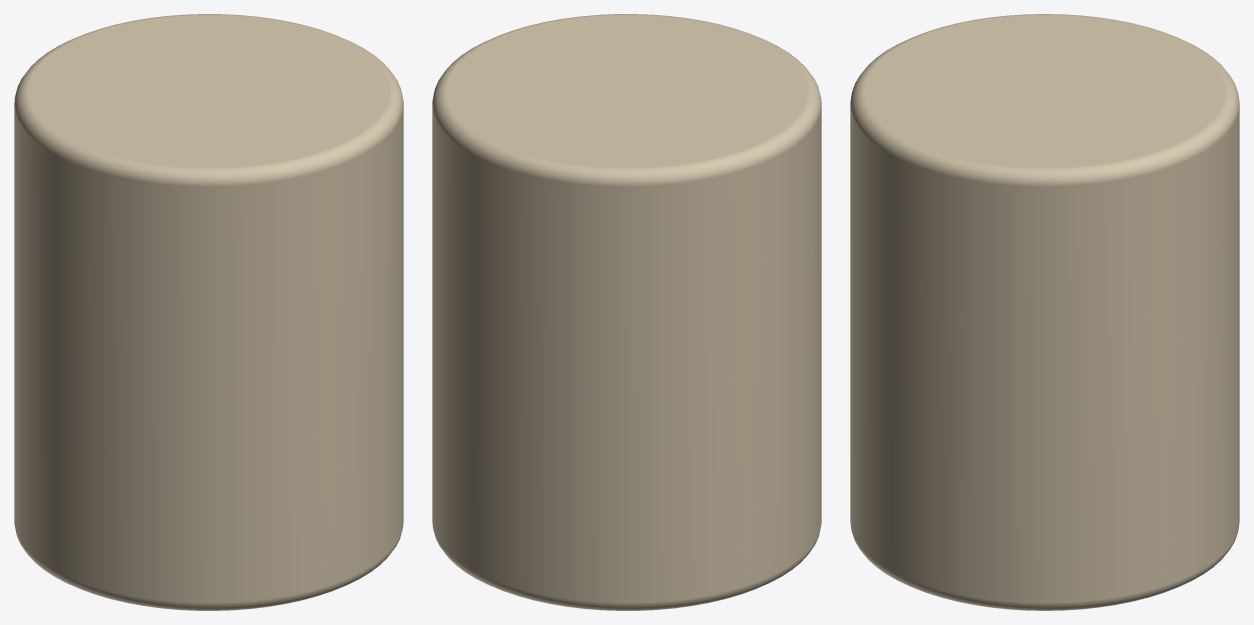
Rendered from hero-stepping-1.glb.
3 renders of one model, left to right at view 1: azimuth 30°, elevation 25°; view 2: azimuth 150°, elevation 25°; view 3: azimuth 270°, elevation 25°, orthographic.
Parts seen in each view (by area): view 1: Honed stone stepping disc.001; view 2: Honed stone stepping disc.001; view 3: Honed stone stepping disc.001.
Boxes of the visible parts, box(x1,y1,x2,y2) form: Honed stone stepping disc.001: box(14, 14, 403, 610); Honed stone stepping disc.001: box(432, 14, 821, 610); Honed stone stepping disc.001: box(850, 14, 1239, 610).
Bounding box in the file's own units: 0.0819 × 0.1025 × 0.0819.
